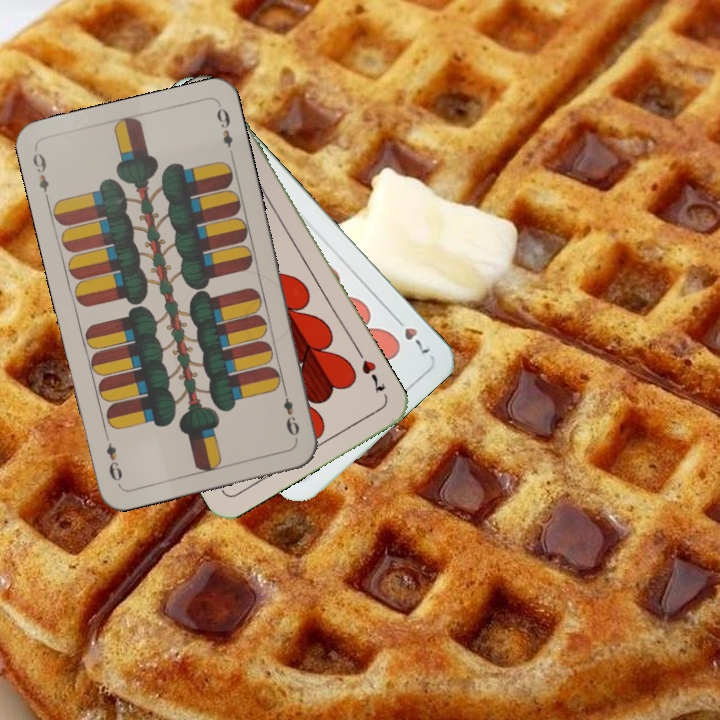E9: (28, 148, 52, 204), (279, 384, 302, 438)
H7: (389, 310, 433, 357), (353, 346, 388, 396)
